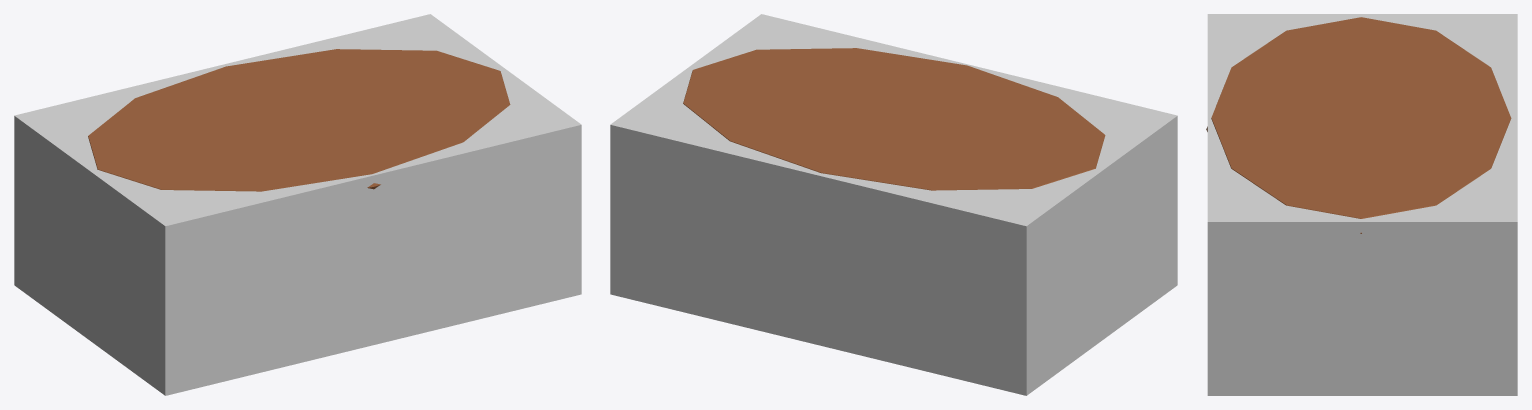
Rendered from rounded-table-a.glb.
3 views of the same model, side by side, from view 1: azimuth 30°, elevation 25°; view 2: azimuth 150°, elevation 25°; view 3: azimuth 270°, elevation 25° (orthographic). The views are drawn at different scales.
Visible parts, largest first — view 1: Rounded table A_col, Rounded table A; view 2: Rounded table A_col, Rounded table A; view 3: Rounded table A_col, Rounded table A.
Boxes of the visible parts, left/top/right/bottom form: Rounded table A_col: left=14, top=14, right=581, bottom=395; Rounded table A: left=88, top=49, right=510, bottom=191; Rounded table A_col: left=610, top=14, right=1177, bottom=395; Rounded table A: left=683, top=48, right=1105, bottom=190; Rounded table A_col: left=1207, top=14, right=1517, bottom=395; Rounded table A: left=1206, top=17, right=1511, bottom=233.
Size of the model in its own units: 9.14 by 3.57 by 5.77.
